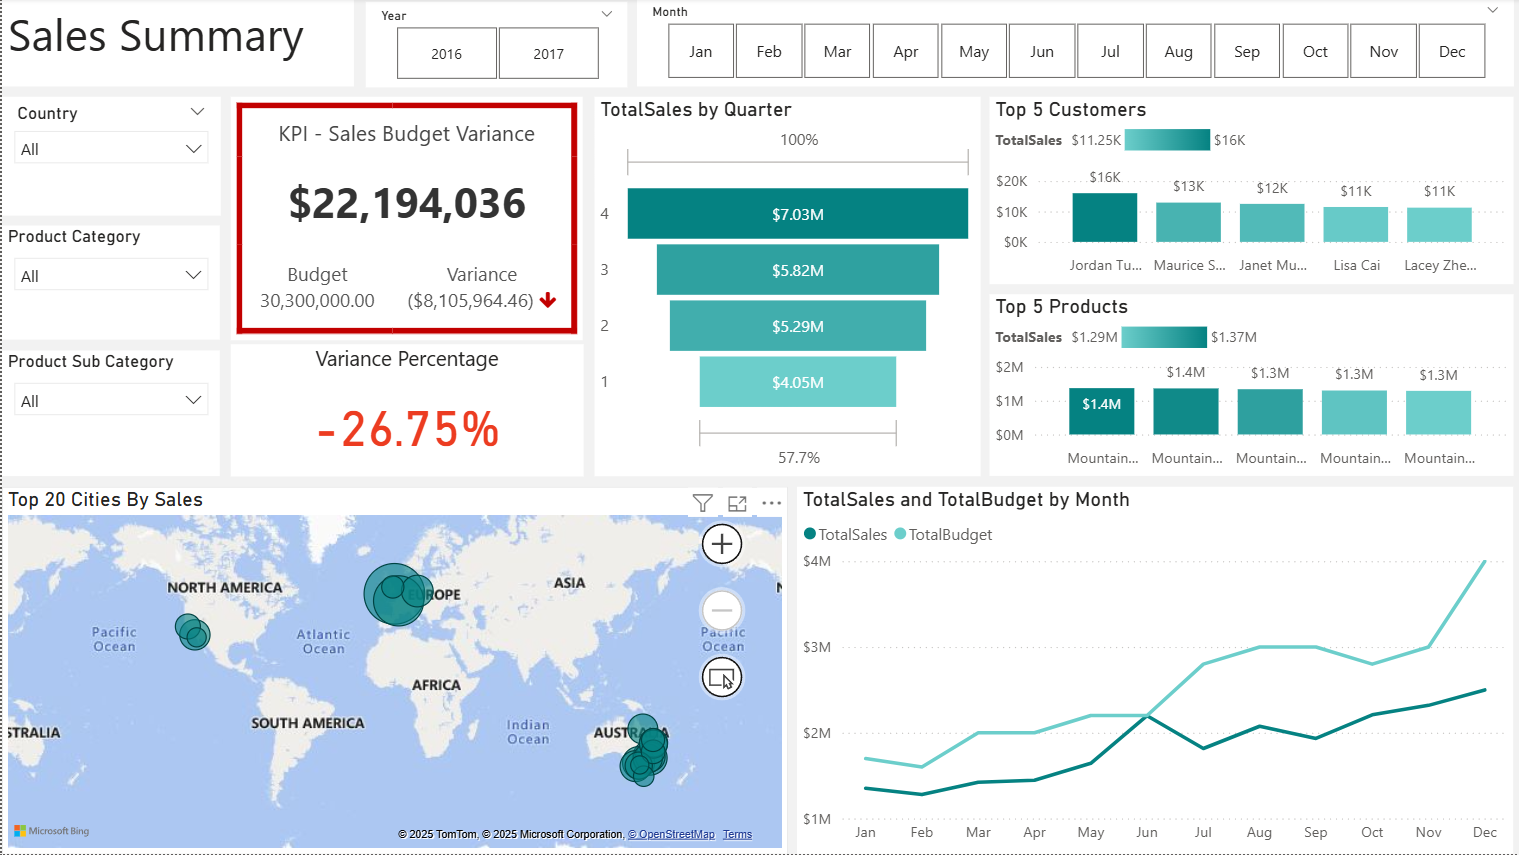

This screenshot's page, from the dashboard's own definition file:
{"tool":"powerbi","page":{"name":"Executive Summary","canvas":[1280,720],"ordinal":0},"visuals":[{"type":"textbox","box":[0,0,296.4,74.5],"z":0},{"type":"slicer","fields":{"Values":["Dim_Date.Year"]},"box":[305.5,2.7,220,71.8],"z":1000},{"type":"slicer","title":"Product Category","fields":{"Values":["Dim_Product.Category"]},"box":[0,191.6,183.6,95.8],"z":2000},{"type":"slicer","title":"Product Sub Category","fields":{"Values":["Dim_Product.Sub Category"]},"box":[0,296.4,183.6,105.7],"z":3000},{"type":"slicer","fields":{"Values":["Dim_Customer.Country"]},"box":[0,82.7,183.6,100],"z":4000},{"type":"BBED0A4D4D8D44CE93CF2DAFADEE466C","fields":{"actual":["Fact_Internet_Sales.TotalSales"],"target1":["Fact_Budget.TotalBudget"],"target2":["Fact_Budget.TotalVariancce"]},"box":[192.7,82.7,296.4,204.5],"z":5000},{"type":"card","title":"Variance Percentage","fields":{"Values":["Fact_Budget.VariancePct"]},"box":[192.5,291,296.4,111],"z":6000},{"type":"slicer","fields":{"Values":["Dim_Date.Month"]},"box":[534.5,0,737.3,74.5],"z":7000},{"type":"funnel","fields":{"Category":["Dim_Date.Quarter"],"Y":["Fact_Internet_Sales.TotalSales"]},"box":[498.2,82.7,324.5,319.1],"z":8000},{"type":"columnChart","title":"Top 5 Customers","fields":{"Category":["Dim_Customer.Full Name"],"Y":["Fact_Internet_Sales.TotalSales"]},"box":[830.9,82.7,440.9,157.3],"z":9000},{"type":"columnChart","title":"Top 5 Products","fields":{"Y":["Fact_Internet_Sales.TotalSales"],"Category":["Dim_Product.EnglishProductName"]},"box":[831,249,440.6,153.1],"z":10000},{"type":"map","title":"Top 20 Cities By Sales","fields":{"Category":["Dim_Customer.City"],"Size":["Fact_Internet_Sales.TotalSales"]},"box":[0,411,660.9,309],"z":11000},{"type":"lineChart","fields":{"Category":["Dim_Date.Month"],"Y":["Fact_Internet_Sales.TotalSales","Fact_Budget.TotalBudget"]},"box":[669,411,602.7,309],"z":12000}]}

Visuals, with their boxes in screenshot pixels (x1, y1, x2, y2), scaled from the page's 1280x720 canvas onto the 1519x855 screenshot:
textbox: Rect(0, 0, 352, 88)
slicer - Dim_Date.Year: Rect(363, 3, 624, 88)
"Product Category" slicer: Rect(0, 228, 218, 341)
"Product Sub Category" slicer: Rect(0, 352, 218, 477)
slicer - Dim_Customer.Country: Rect(0, 98, 218, 217)
BBED0A4D4D8D44CE93CF2DAFADEE466C - Fact_Internet_Sales.TotalSales x Fact_Budget.TotalBudget: Rect(229, 98, 580, 341)
"Variance Percentage" card: Rect(228, 346, 580, 477)
slicer - Dim_Date.Month: Rect(634, 0, 1509, 88)
funnel - Dim_Date.Quarter x Fact_Internet_Sales.TotalSales: Rect(591, 98, 976, 477)
"Top 5 Customers" columnChart: Rect(986, 98, 1509, 285)
"Top 5 Products" columnChart: Rect(986, 296, 1509, 477)
"Top 20 Cities By Sales" map: Rect(0, 488, 784, 854)
lineChart - Dim_Date.Month x Fact_Internet_Sales.TotalSales: Rect(794, 488, 1509, 854)
